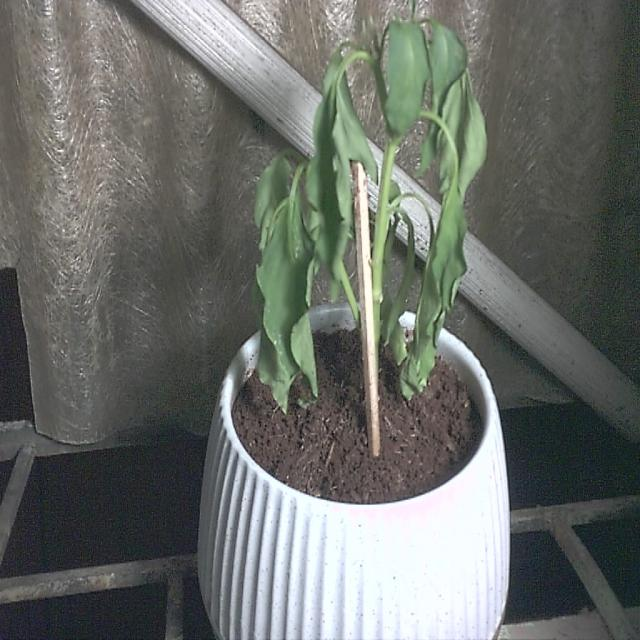Leaf: (257, 202, 316, 405), (412, 183, 467, 388), (304, 92, 352, 308), (385, 18, 426, 138)
